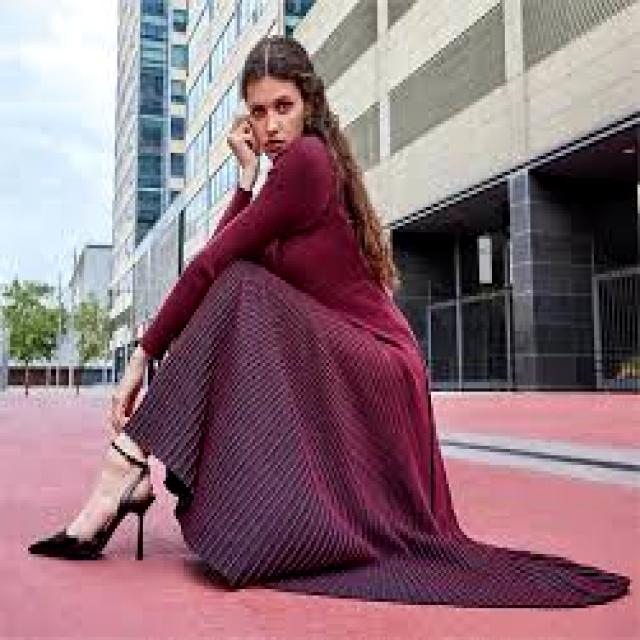dress: (125, 137, 629, 608)
